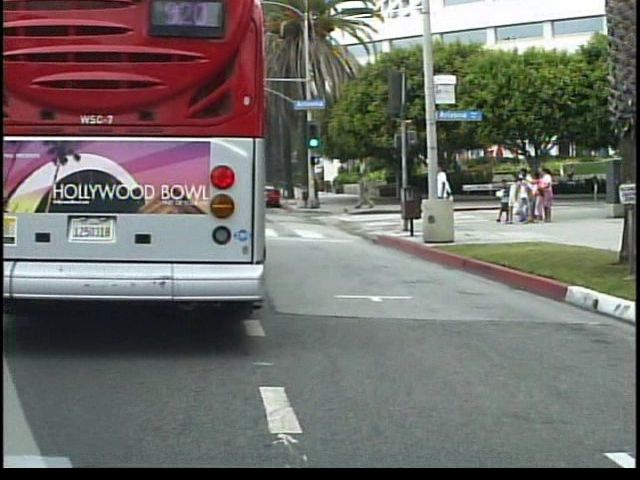person: (429, 161, 461, 236), (433, 169, 457, 232), (359, 168, 378, 210)
